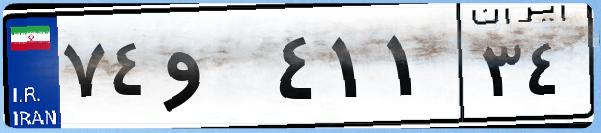1: (385, 28, 445, 110), (330, 28, 385, 110)
3: (475, 38, 525, 113)
4: (270, 28, 330, 110), (525, 38, 570, 115), (110, 28, 158, 98)
7: (57, 26, 110, 100)
و: (158, 20, 270, 120)
